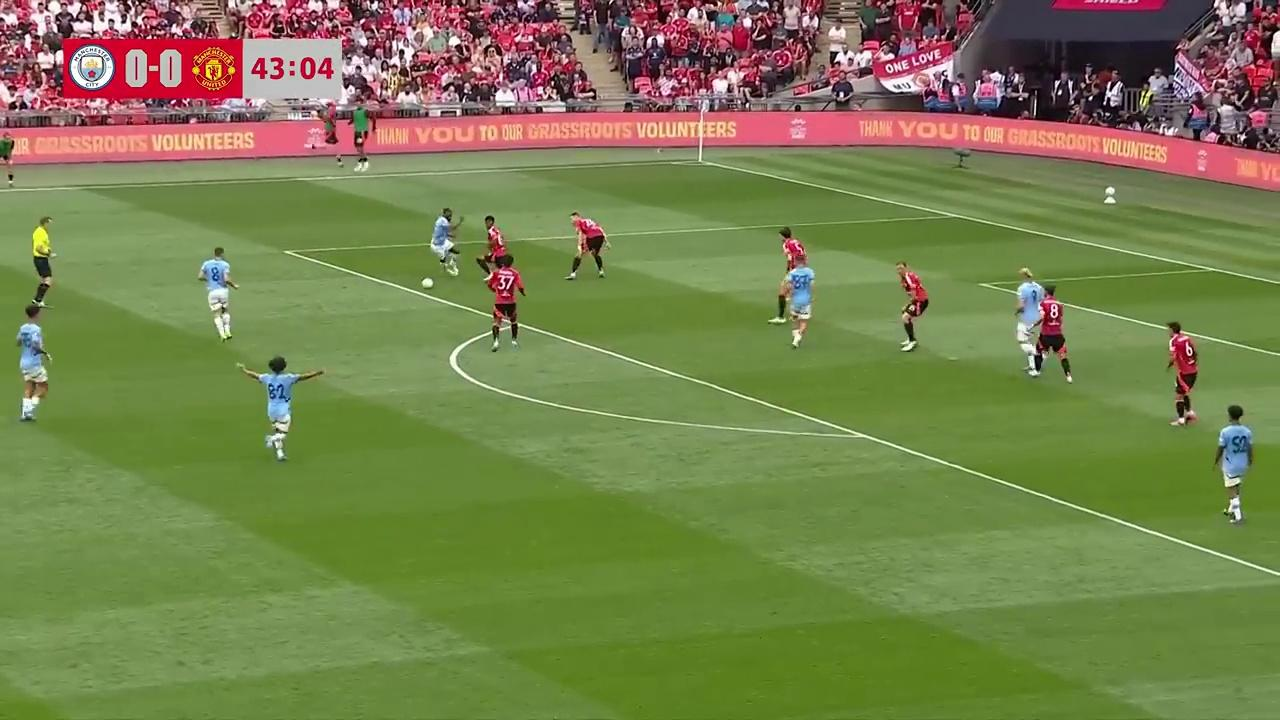ball: (421, 275, 434, 289)
player: (243, 355, 314, 460), (1213, 404, 1254, 523), (14, 305, 51, 421), (1032, 286, 1073, 382), (198, 248, 237, 342), (1165, 323, 1198, 428), (488, 259, 522, 351), (782, 258, 816, 349), (567, 212, 610, 280), (896, 261, 928, 350), (1014, 267, 1046, 348), (429, 207, 460, 277), (778, 227, 808, 289), (481, 215, 506, 272)
referee: (31, 216, 56, 306)
